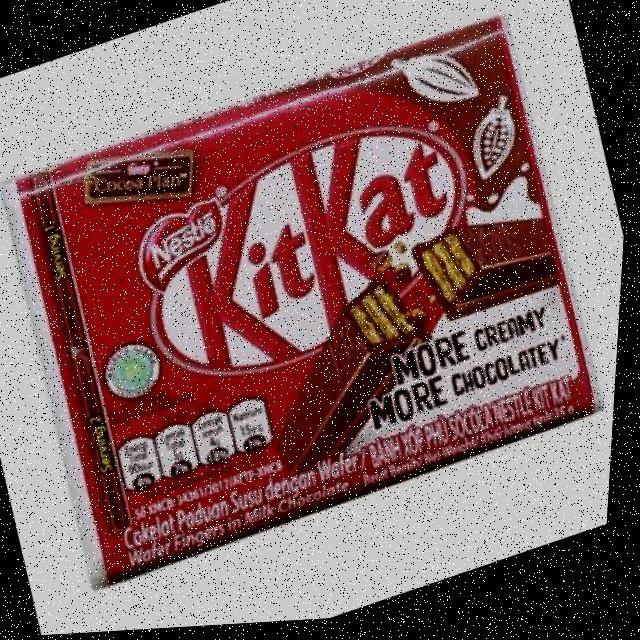kitkat_chocolate: (97, 45, 503, 577)
